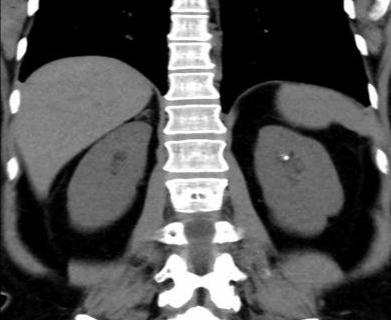Tas_Var: (282, 154, 290, 162)
